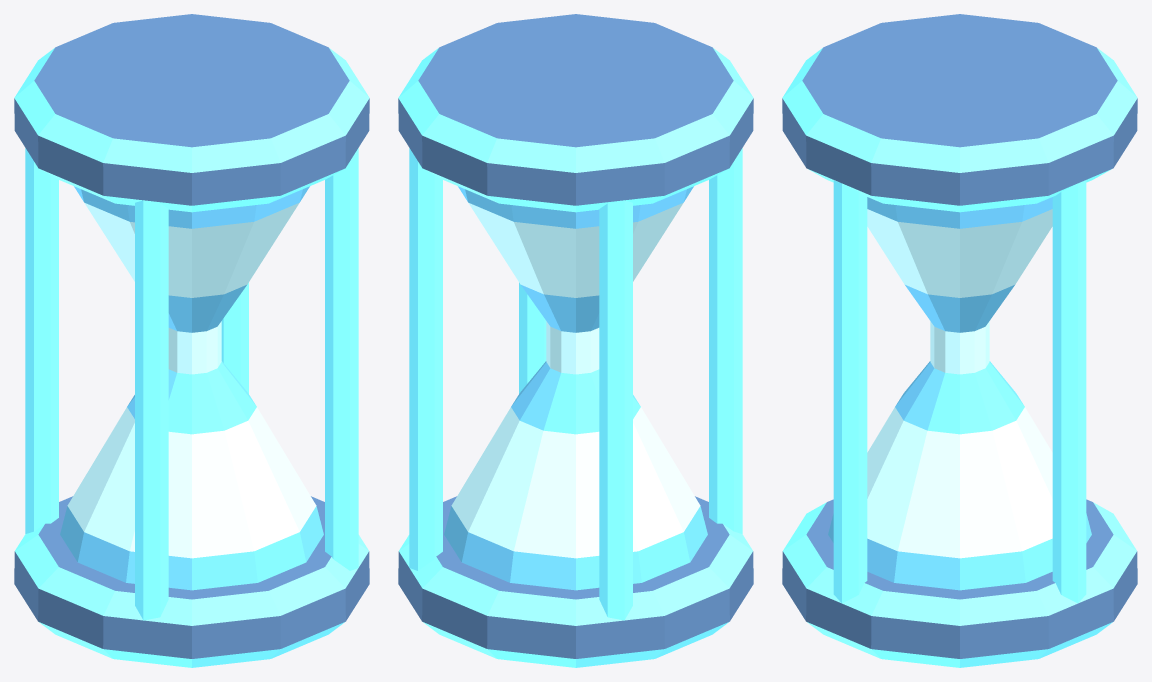
File: slow-time.glb
3 views of the same model, side by side, from view 1: azimuth 30°, elevation 25°; view 2: azimuth 150°, elevation 25°; view 3: azimuth 270°, elevation 25° (orthographic).
Visible parts, largest first — view 1: Beveled cap.001, Pinched blue crystal, Beveled cap, Cyan suspension rail.002, Cyan suspension rail.003, Cyan suspension rail.001, Cyan suspension rail; view 2: Beveled cap.001, Pinched blue crystal, Beveled cap, Cyan suspension rail.001, Cyan suspension rail, Cyan suspension rail.002, Cyan suspension rail.003; view 3: Beveled cap.001, Pinched blue crystal, Beveled cap, Cyan suspension rail, Cyan suspension rail.003.
Boxes of the visible parts, box(x1,y1,x2,y2) form: Beveled cap.001: box(14, 14, 369, 212); Pinched blue crystal: box(60, 186, 323, 590); Beveled cap: box(14, 496, 369, 667); Cyan suspension rail.002: box(135, 200, 168, 620); Cyan suspension rail.003: box(325, 148, 358, 570); Cyan suspension rail.001: box(25, 148, 58, 533); Cyan suspension rail: box(221, 282, 248, 393); Beveled cap.001: box(398, 14, 753, 212); Pinched blue crystal: box(444, 186, 707, 590); Beveled cap: box(398, 496, 753, 667); Cyan suspension rail.001: box(599, 200, 632, 620); Cyan suspension rail: box(409, 148, 442, 570); Cyan suspension rail.002: box(709, 148, 742, 533); Cyan suspension rail.003: box(519, 282, 546, 393); Beveled cap.001: box(782, 14, 1137, 212); Pinched blue crystal: box(828, 197, 1091, 590); Beveled cap: box(782, 499, 1137, 667); Cyan suspension rail: box(1052, 180, 1086, 603); Cyan suspension rail.003: box(833, 180, 867, 603).
Size of the model in its own units: 0.782 by 1.26 by 0.782.
